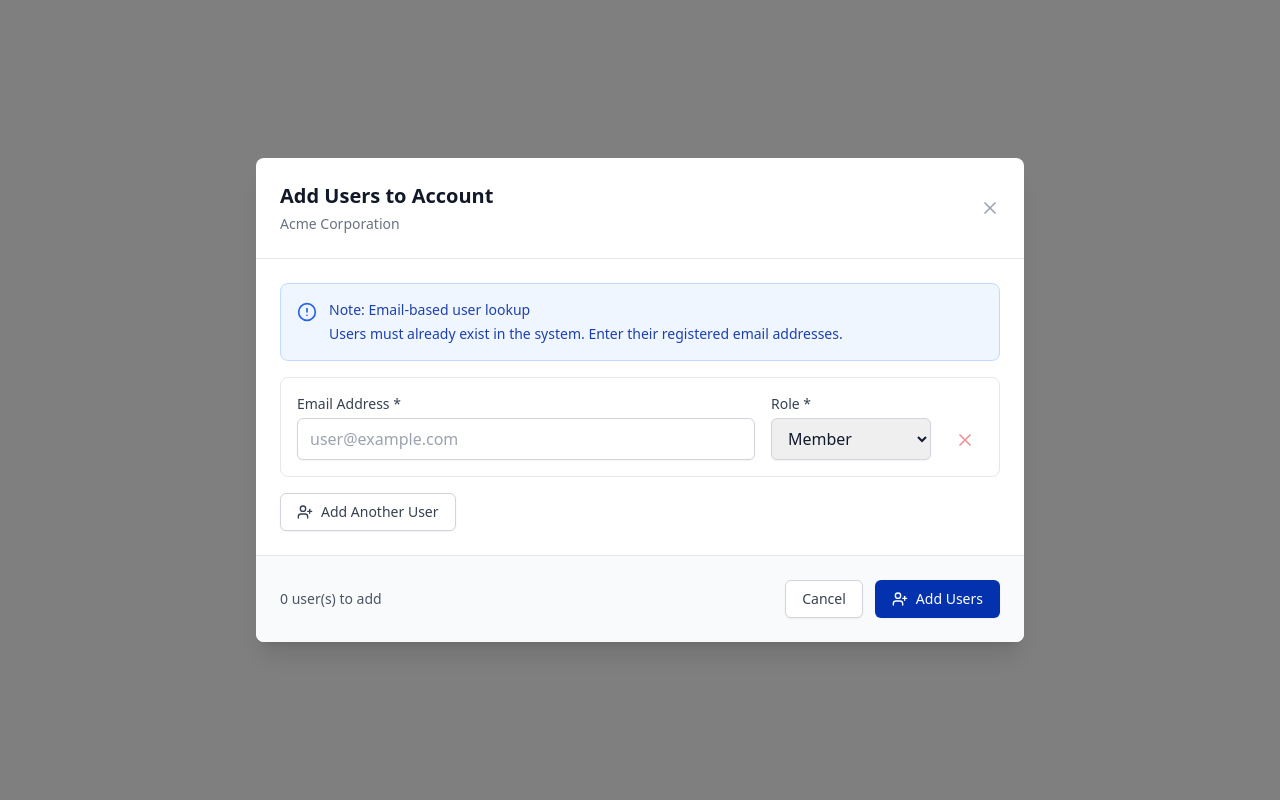
Test: BulkAddUsersModal › should show validation error for empty email
Step 1. Click the button "Add Users" → (937, 599), box [875, 580, 1000, 618]
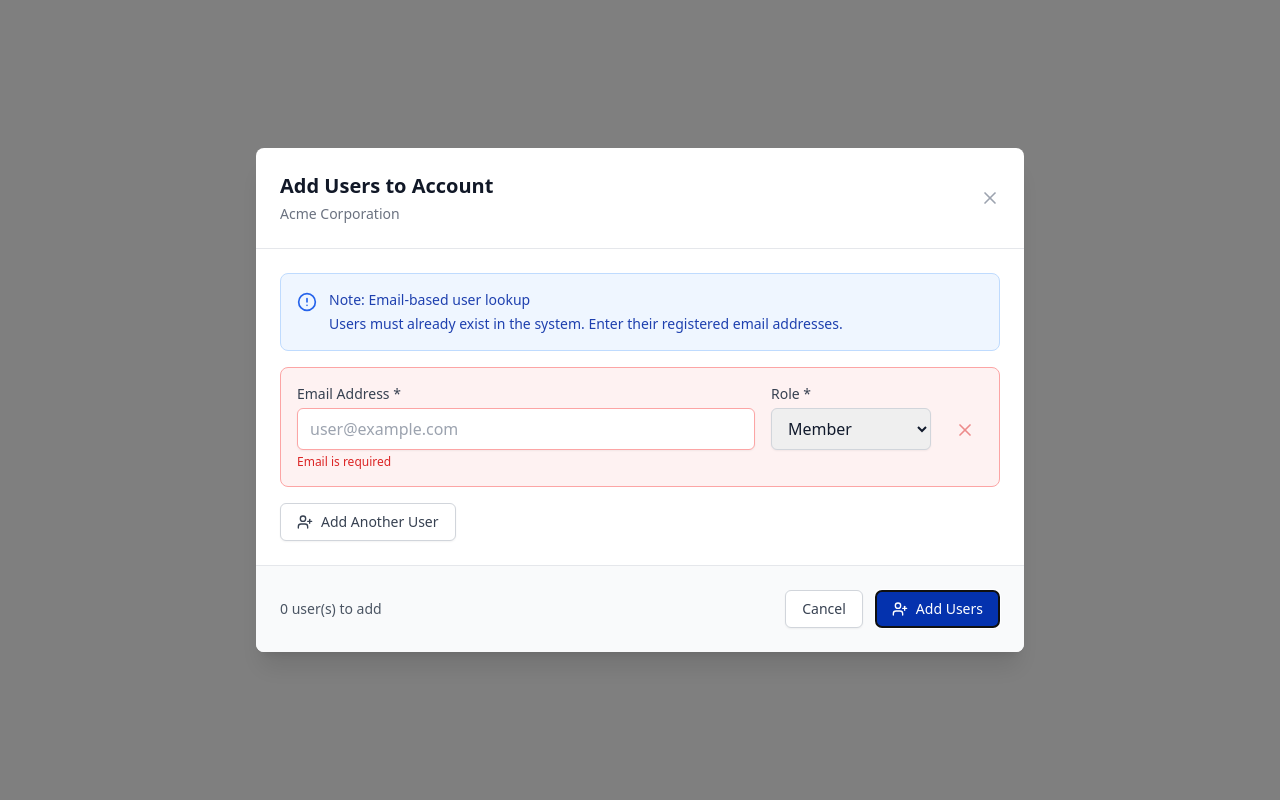
Now the text "Email is required" is shown, box [297, 453, 391, 470]
